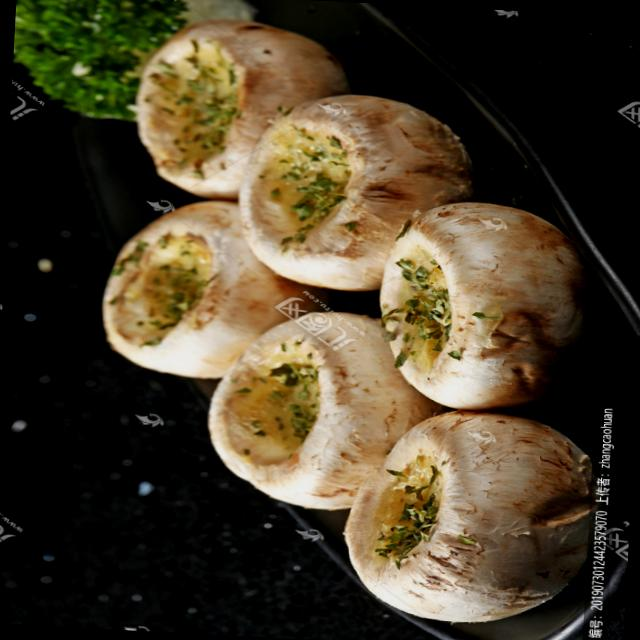Agaricus bisporus: (341, 404, 600, 618), (202, 304, 414, 514), (242, 91, 470, 286), (381, 198, 582, 410), (132, 15, 348, 202), (100, 197, 286, 382)
